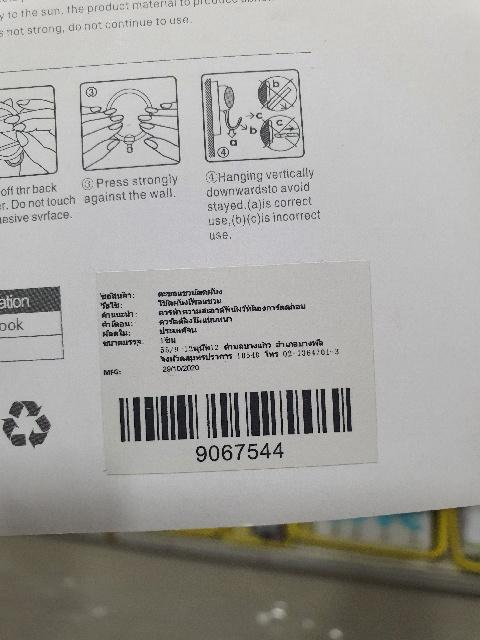Barcode: (115, 385, 356, 468)
